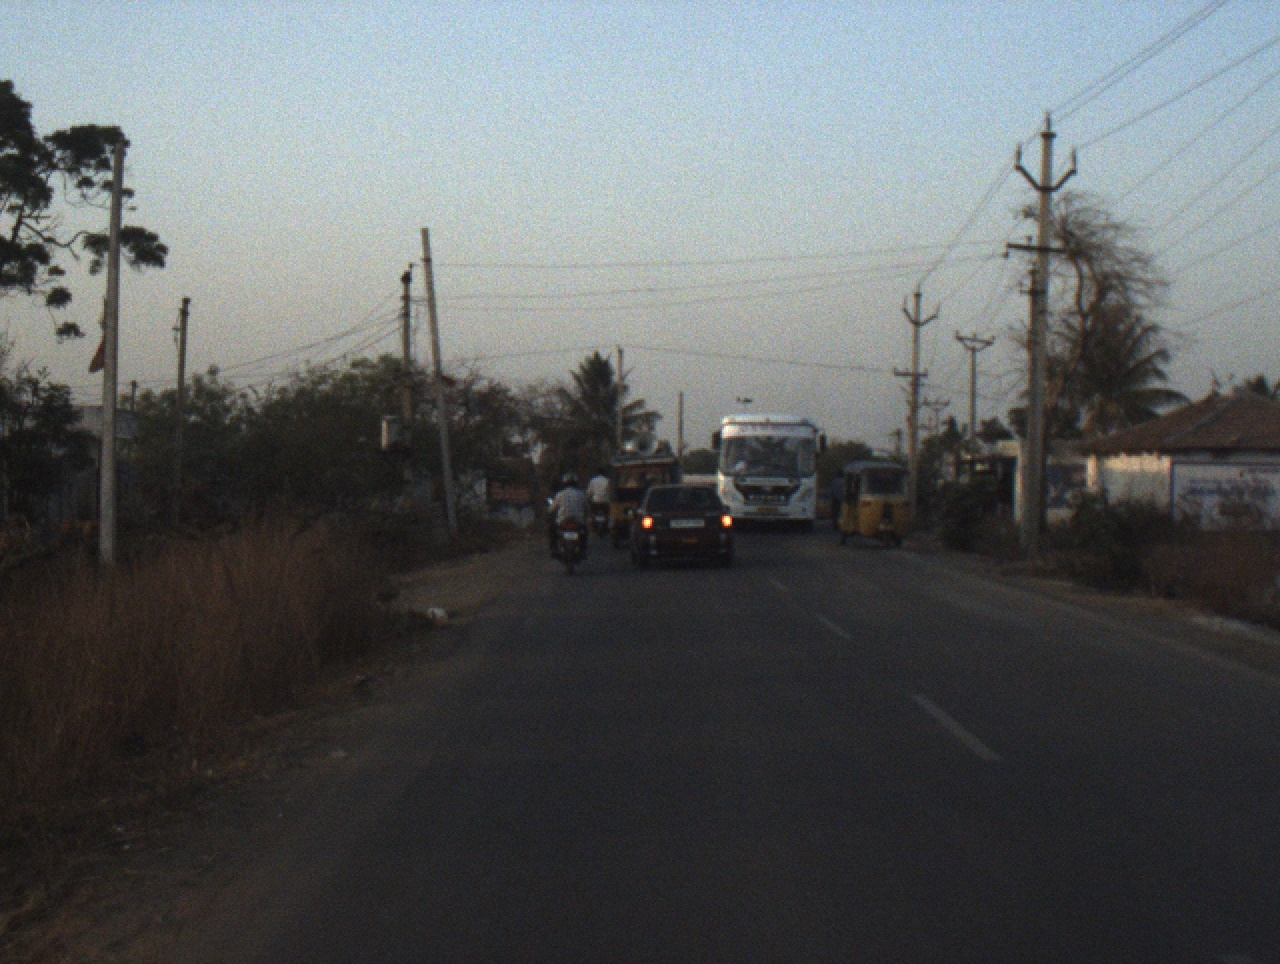autorickshaw: (607, 436, 684, 555), (838, 459, 910, 549)
bus: (713, 412, 828, 532)
car: (622, 482, 736, 572), (684, 474, 716, 491)
motorcycle: (544, 497, 590, 577), (587, 490, 611, 538)
person: (829, 471, 847, 528)
rider: (544, 468, 596, 560), (586, 467, 612, 518)
truck: (486, 458, 537, 516)
vehicle fallback: (816, 487, 836, 523)
